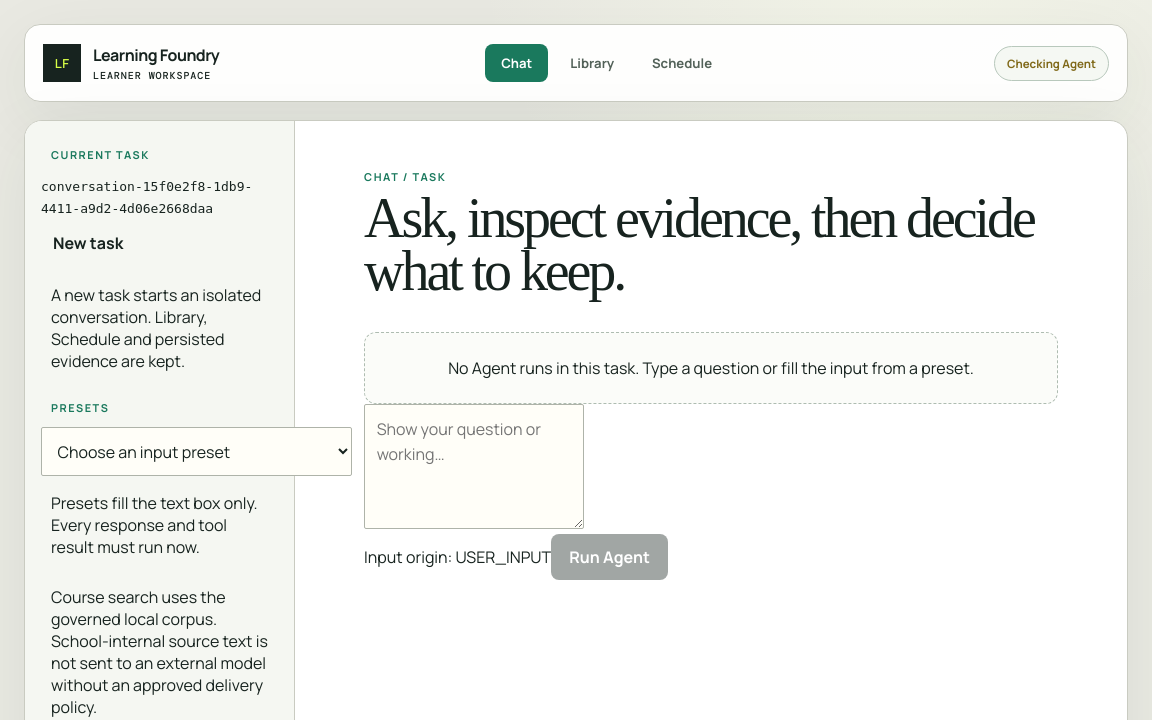
Scenario: real Agent product boundaries › uses a preset only to fill input and labels its origin
The width and height of the screenshot is (1152, 720).
Select "Complete MgO problem and working" in the dropdown named "Fill input from preset": (196, 452) [41,427,352,476]
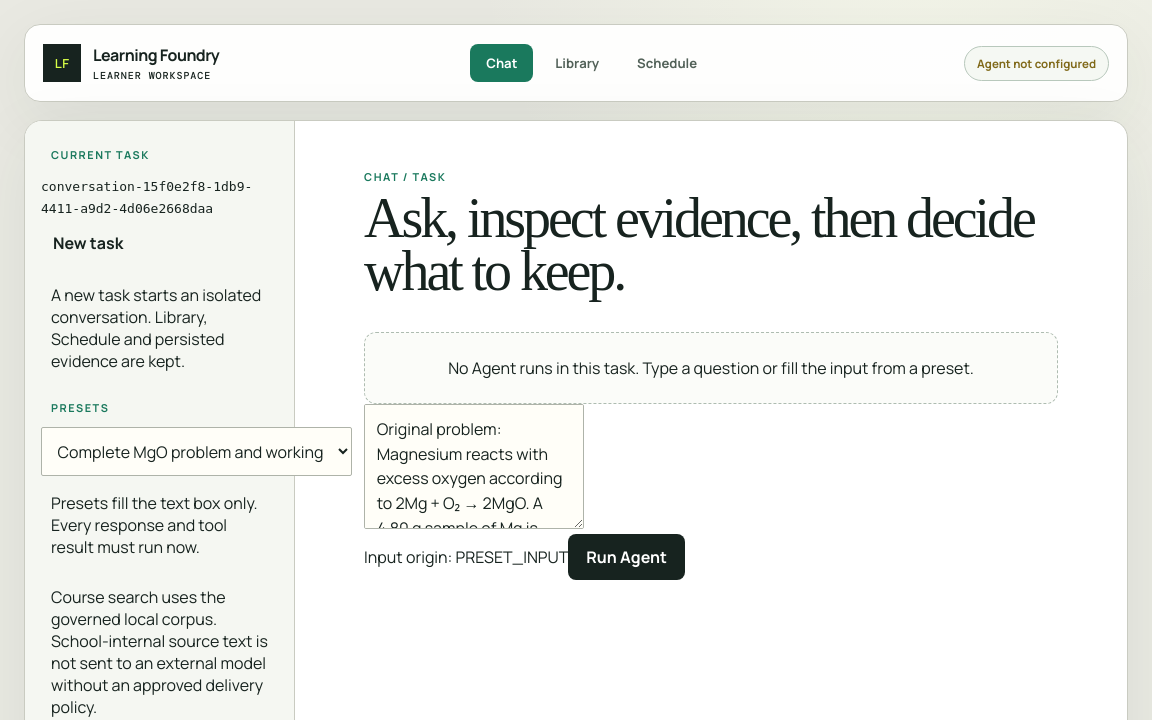
Expected: the text "No Agent runs in this task" is shown, [448,357,974,379]
Expected: the text "Input origin: PRESET_INPUT" is shown, [364,546,568,568]
